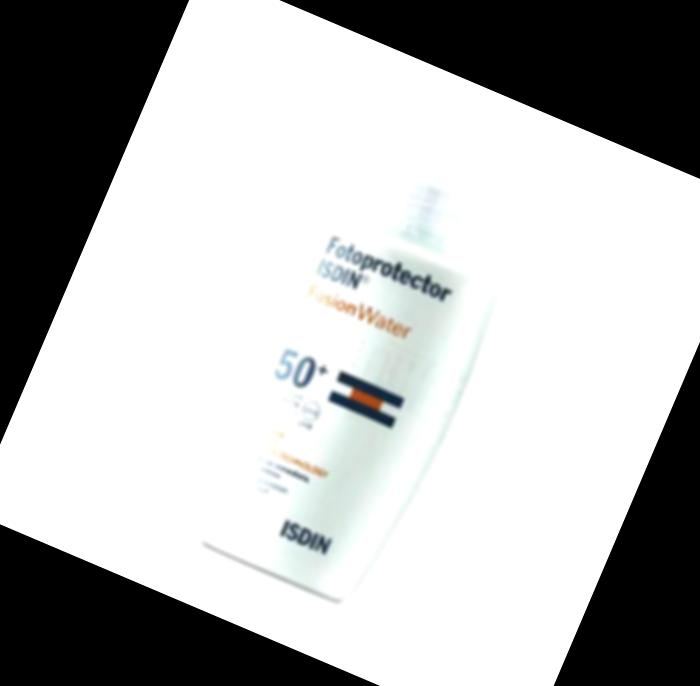cosmetic: (175, 106, 551, 619)
